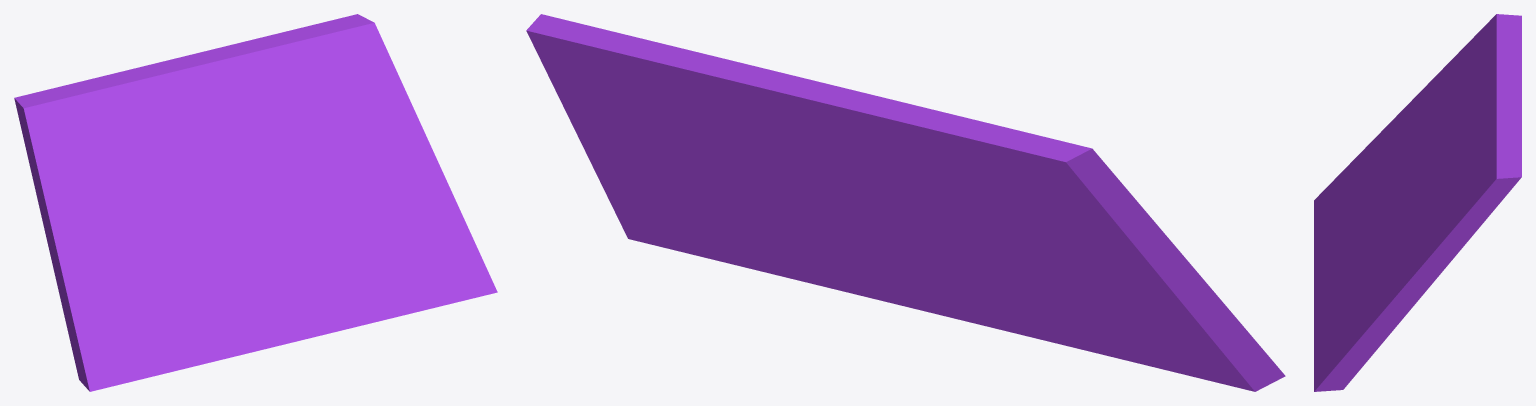
Rendered from Window_130.fbx.
3 views of the same model, side by side, from view 1: azimuth 30°, elevation 25°; view 2: azimuth 150°, elevation 25°; view 3: azimuth 270°, elevation 25° (orthographic). The views are drawn at different scales.
Visible parts, largest first — view 1: Window_130; view 2: Window_130; view 3: Window_130.
Part boxes in pixels (x1,y1,x2,y2): Window_130: (14, 14, 497, 391); Window_130: (526, 14, 1285, 391); Window_130: (1314, 14, 1521, 391).
Size of the model in its own units: 1571 by 763 by 720.
